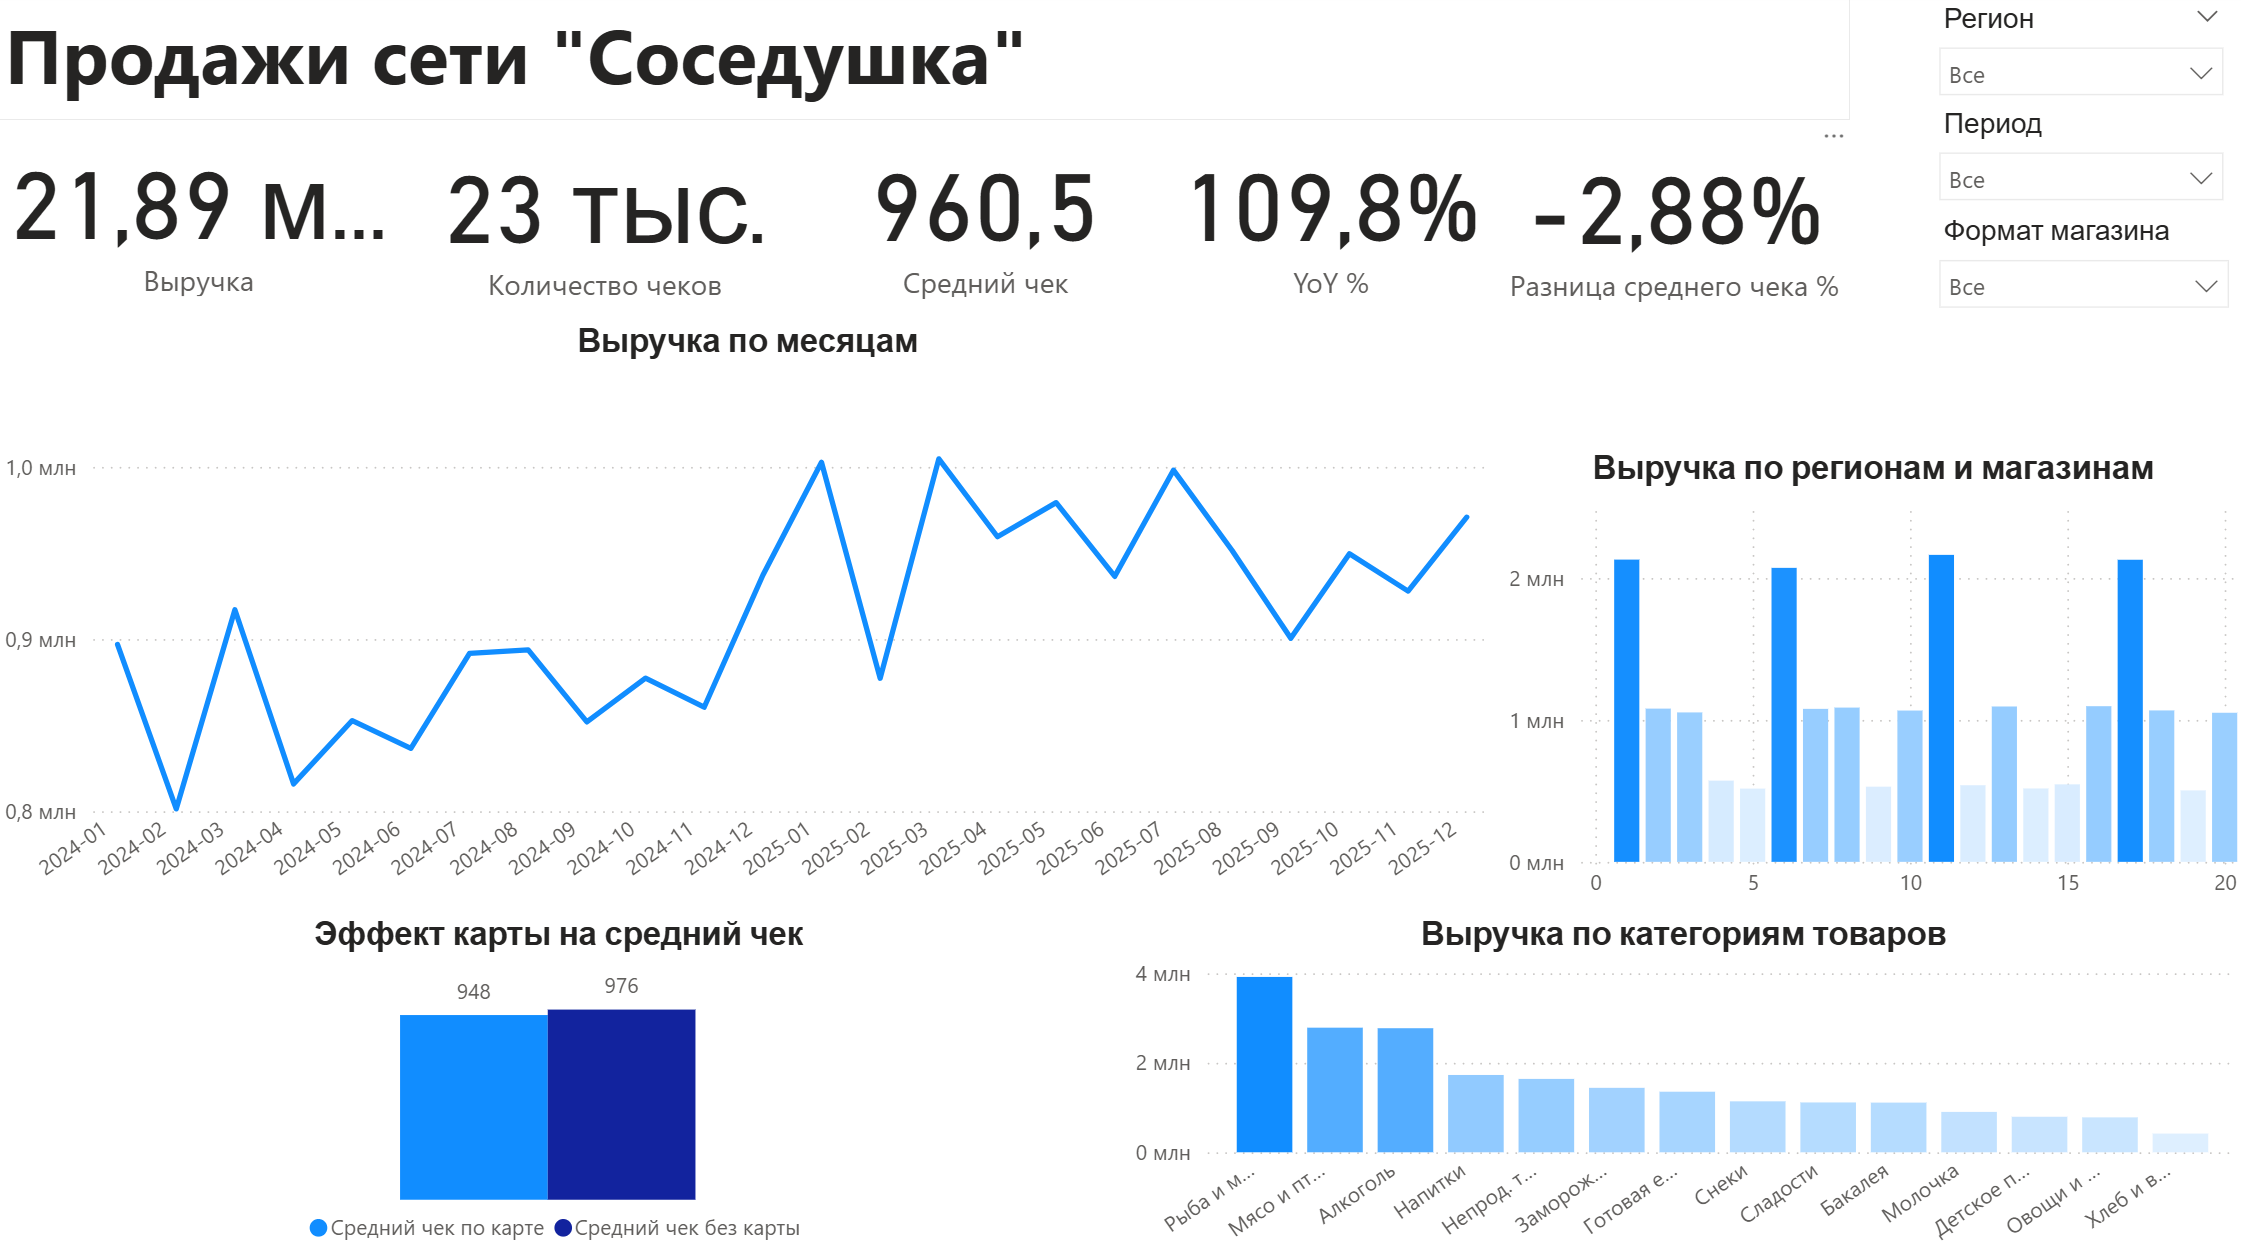

This screenshot's page, from the dashboard's own definition file:
{"tool":"powerbi","page":{"name":"Дашборд","canvas":[1280,720],"ordinal":0},"visuals":[{"type":"card","fields":{"Values":["fact_sales.Выручка"]},"box":[0,72,231,105],"z":0},{"type":"card","fields":{"Values":["fact_sales.Средний чек"]},"box":[462,65,202,121],"z":1000},{"type":"card","fields":{"Values":["fact_sales.Количество чеков"]},"box":[231,66,231,121],"z":2000},{"type":"card","fields":{"Values":["fact_sales.YoY %"]},"box":[664,65,191,121],"z":3000},{"type":"lineChart","title":"Выручка по месяцам","fields":{"Y":["fact_sales.Выручка"],"Category":["dim_calendar.Год-Месяц"]},"box":[0,187,855,337],"z":4000},{"type":"clusteredColumnChart","title":"Выручка по регионам и магазинам","fields":{"Y":["fact_sales.Выручка"],"Category":["dim_stores.регион","dim_stores.город","dim_stores.id_магазина"]},"box":[855,259,425,265],"z":5000},{"type":"clusteredColumnChart","title":"Выручка по категориям товаров","fields":{"Y":["fact_sales.Выручка"],"Category":["dim_products.категория"]},"box":[640,524,640,196],"z":6000},{"type":"clusteredColumnChart","title":"Эффект карты на средний чек","fields":{"Y":["fact_sales.Средний чек по карте","fact_sales.Средний чек без карты"]},"box":[0,524,640,196],"z":7000},{"type":"slicer","fields":{"Values":["dim_stores.регион"]},"box":[1095,0,182,60],"z":8000},{"type":"slicer","fields":{"Values":["dim_calendar.Год-Месяц"]},"box":[1095,60,182,61],"z":9000},{"type":"slicer","fields":{"Values":["dim_stores.формат_магазина"]},"box":[1095,121,185,79],"z":10000},{"type":"card","fields":{"Values":["fact_sales.Разница среднего чека %"]},"box":[855,63,199,128],"z":11000},{"type":"textbox","box":[0,0,1054,72],"z":12000}]}

Visuals, with their boxes in screenshot pixels (x1, y1, x2, y2), scaled from the page's 1280x720 canvas onto the 2241x1255 screenshot:
card - fact_sales.Выручка: left=0, top=126, right=404, bottom=309
card - fact_sales.Средний чек: left=809, top=113, right=1163, bottom=324
card - fact_sales.Количество чеков: left=404, top=115, right=809, bottom=326
card - fact_sales.YoY %: left=1163, top=113, right=1497, bottom=324
"Выручка по месяцам" lineChart: left=0, top=326, right=1497, bottom=913
"Выручка по регионам и магазинам" clusteredColumnChart: left=1497, top=451, right=2240, bottom=913
"Выручка по категориям товаров" clusteredColumnChart: left=1120, top=913, right=2240, bottom=1254
"Эффект карты на средний чек" clusteredColumnChart: left=0, top=913, right=1120, bottom=1254
slicer - dim_stores.регион: left=1917, top=0, right=2236, bottom=105
slicer - dim_calendar.Год-Месяц: left=1917, top=105, right=2236, bottom=211
slicer - dim_stores.формат_магазина: left=1917, top=211, right=2240, bottom=349
card - fact_sales.Разница среднего чека %: left=1497, top=110, right=1845, bottom=333
textbox: left=0, top=0, right=1845, bottom=126
